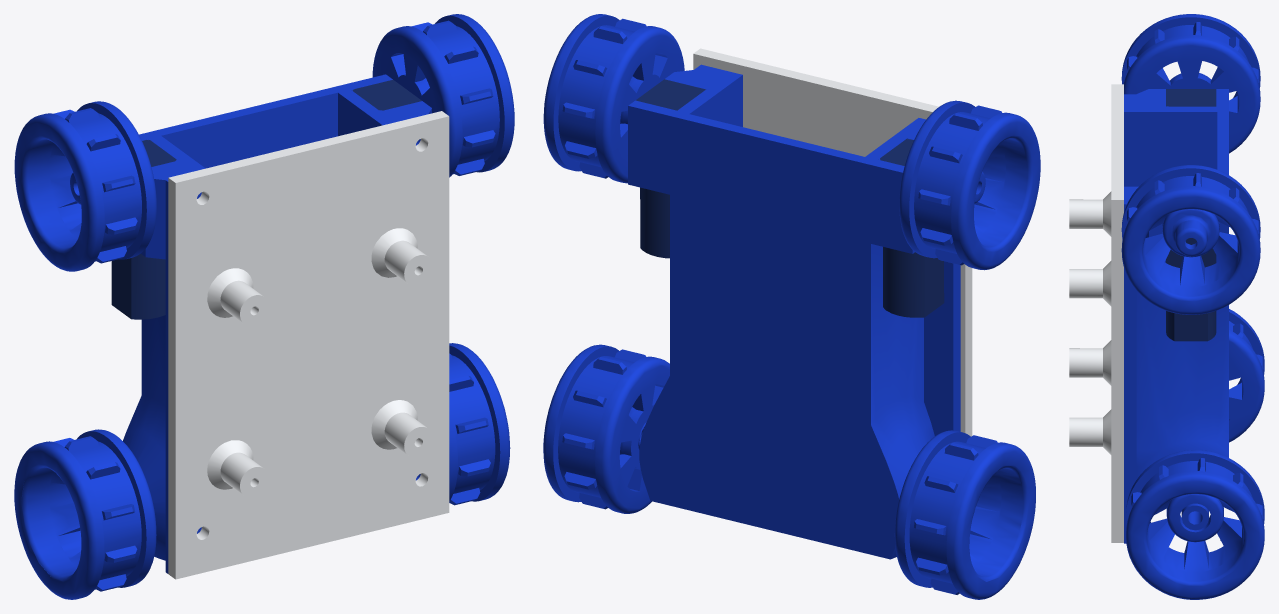
File: car.glb
The picture shows the model from 3 angles, left to right: view 1: azimuth 30°, elevation 25°; view 2: azimuth 150°, elevation 25°; view 3: azimuth 270°, elevation 25°; orthographic projection. The views are drawn at different scales.
Visible parts, largest first — view 1: car_STEP_solid_164, car_STEP_solid_168, car_STEP_solid_171, car_STEP_solid_169, car_STEP_solid_167, car_STEP_solid_165, car_STEP_solid_170, car_STEP_solid_166; view 2: car_STEP_solid_168, car_STEP_solid_171, car_STEP_solid_169, car_STEP_solid_165, car_STEP_solid_167, car_STEP_solid_164, car_STEP_solid_170, car_STEP_solid_166; view 3: car_STEP_solid_168, car_STEP_solid_167, car_STEP_solid_165, car_STEP_solid_164, car_STEP_solid_171, car_STEP_solid_169, car_STEP_solid_166, car_STEP_solid_170.
Part boxes in pixels (x1,y1,x2,y2): car_STEP_solid_164: (168, 111, 449, 579); car_STEP_solid_168: (123, 74, 431, 573); car_STEP_solid_171: (14, 101, 156, 271); car_STEP_solid_169: (14, 429, 156, 599); car_STEP_solid_167: (372, 14, 514, 177); car_STEP_solid_165: (449, 343, 510, 505); car_STEP_solid_170: (111, 140, 176, 319); car_STEP_solid_166: (352, 80, 421, 110); car_STEP_solid_168: (628, 64, 960, 559); car_STEP_solid_171: (899, 100, 1040, 270); car_STEP_solid_169: (894, 430, 1035, 599); car_STEP_solid_165: (543, 344, 669, 513); car_STEP_solid_167: (543, 14, 684, 183); car_STEP_solid_164: (693, 48, 972, 436); car_STEP_solid_170: (880, 138, 944, 317); car_STEP_solid_166: (635, 79, 705, 258); car_STEP_solid_168: (1124, 89, 1228, 543); car_STEP_solid_167: (1121, 165, 1260, 314); car_STEP_solid_165: (1126, 450, 1264, 599); car_STEP_solid_164: (1069, 84, 1123, 542); car_STEP_solid_171: (1121, 14, 1260, 153); car_STEP_solid_169: (1229, 309, 1264, 442); car_STEP_solid_166: (1166, 238, 1216, 341); car_STEP_solid_170: (1166, 89, 1216, 106).
Size of the model in its own units: 101 by 108 by 46.5.
